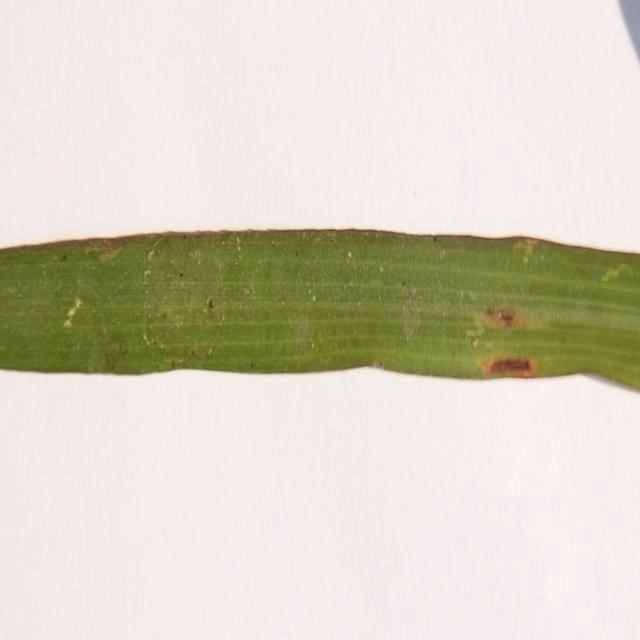Leafsmut: (481, 355, 538, 378), (400, 297, 423, 342), (102, 342, 128, 370), (63, 296, 83, 324), (92, 243, 123, 261), (494, 310, 516, 328), (601, 266, 621, 282), (164, 355, 186, 368), (192, 248, 204, 266), (143, 334, 158, 348), (345, 250, 354, 265), (71, 297, 82, 309), (102, 238, 117, 246), (206, 298, 215, 310), (63, 319, 73, 329), (467, 291, 478, 300), (236, 240, 242, 256), (471, 338, 480, 348), (148, 249, 156, 260), (58, 254, 68, 262), (522, 255, 530, 265), (440, 248, 448, 258), (496, 312, 504, 321), (375, 360, 384, 368), (395, 282, 404, 290), (160, 312, 168, 320), (410, 287, 418, 295), (207, 346, 213, 356), (404, 333, 410, 342), (459, 291, 465, 300), (450, 349, 456, 357), (250, 361, 256, 368), (221, 240, 227, 247), (432, 235, 438, 242), (144, 270, 151, 276), (400, 279, 406, 286), (356, 300, 362, 307), (244, 288, 251, 294), (363, 231, 369, 237), (378, 266, 384, 272), (294, 251, 300, 257), (180, 280, 186, 286), (182, 234, 188, 240), (347, 251, 352, 258), (312, 294, 316, 302), (179, 272, 184, 278), (311, 342, 316, 348), (308, 288, 313, 294), (16, 293, 22, 298)
